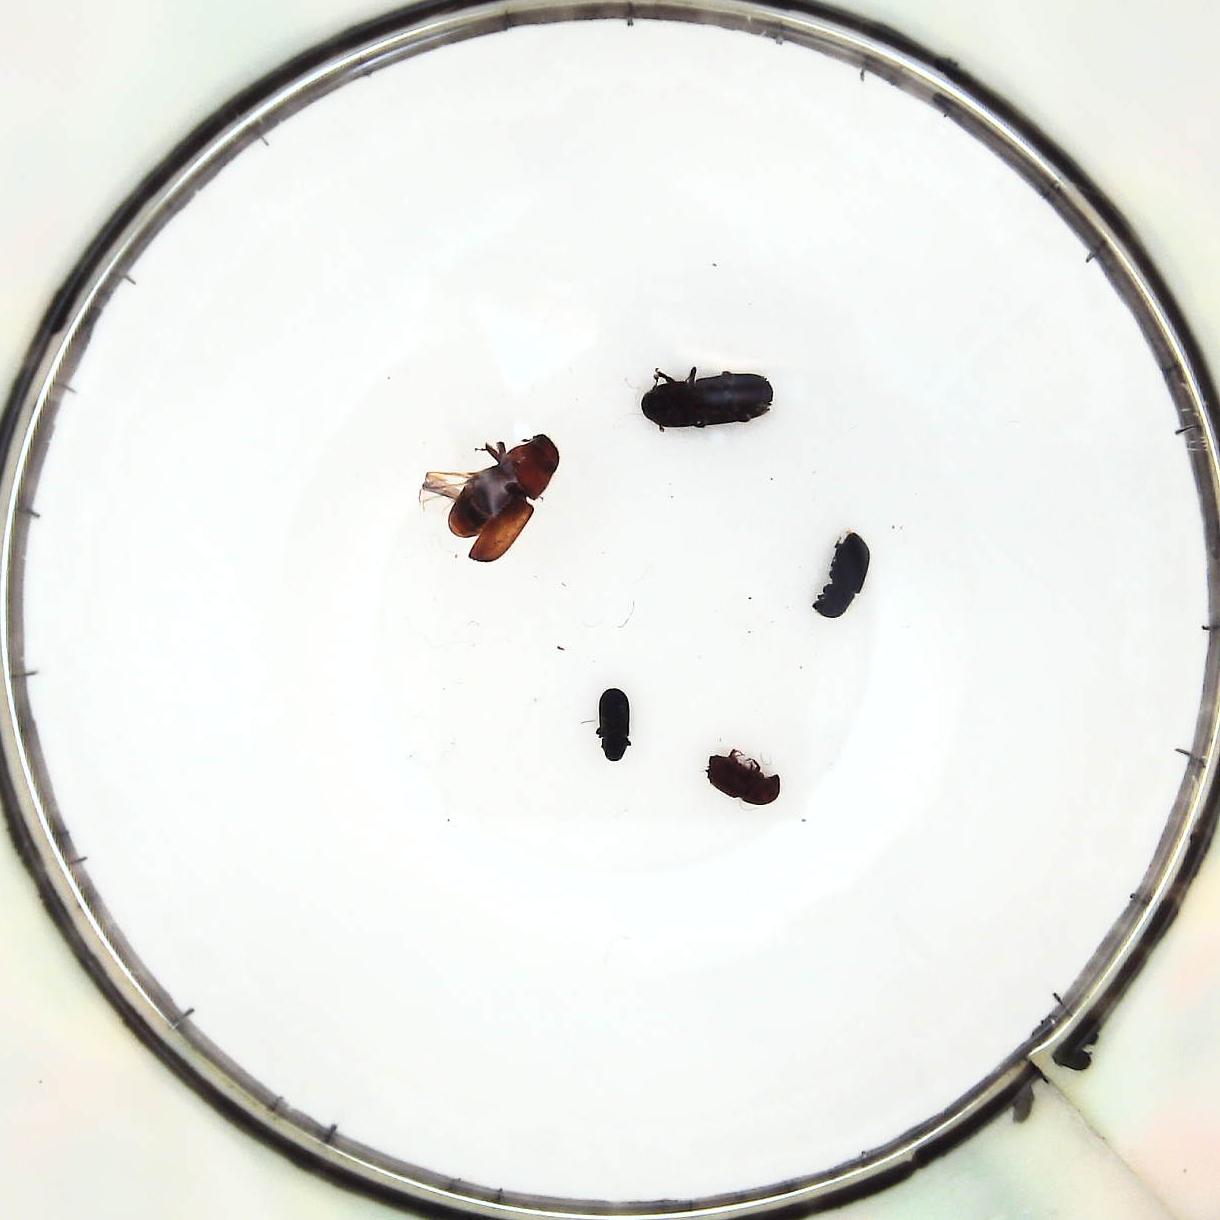Boerner: (647, 366, 774, 432)
Leconte: (425, 432, 561, 554)
Linnaeus: (713, 749, 781, 806)
armandi: (808, 527, 874, 619)
coleoptera: (600, 685, 635, 763)
